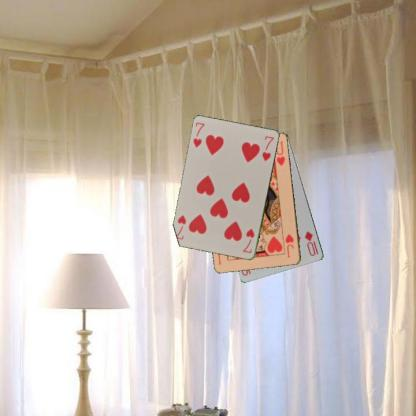10d: (302, 229, 320, 257)
7h: (240, 226, 256, 254), (191, 120, 206, 149)
Jh: (283, 232, 295, 259)
